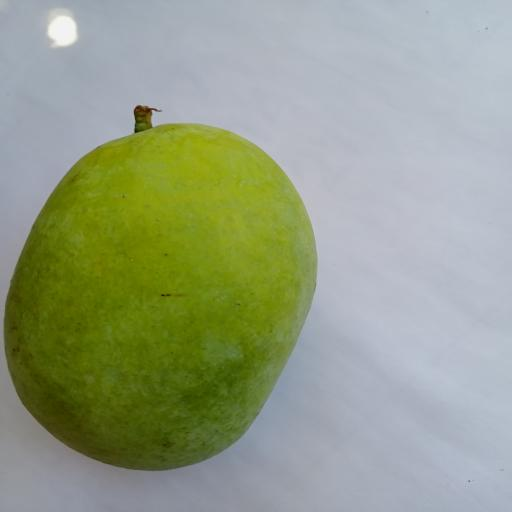mango-unripe: (0, 93, 340, 478)
